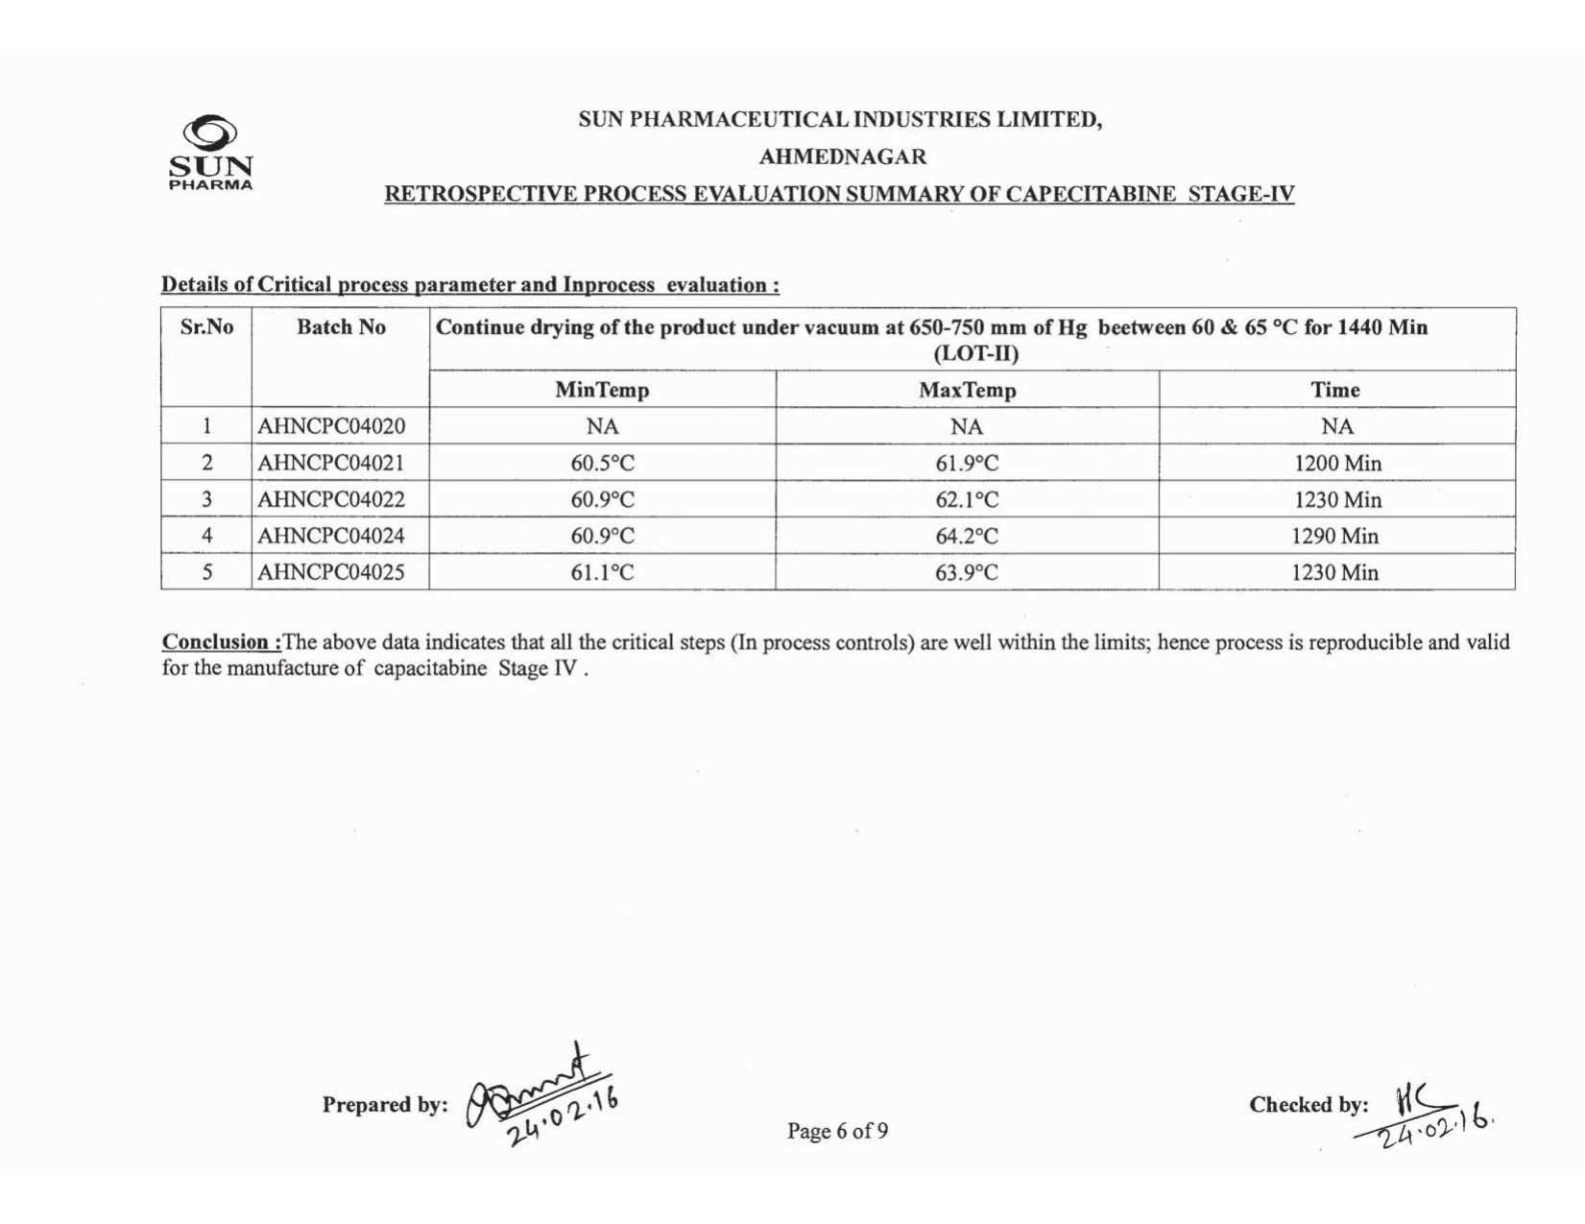merged_cells: (159, 305, 1517, 591)
